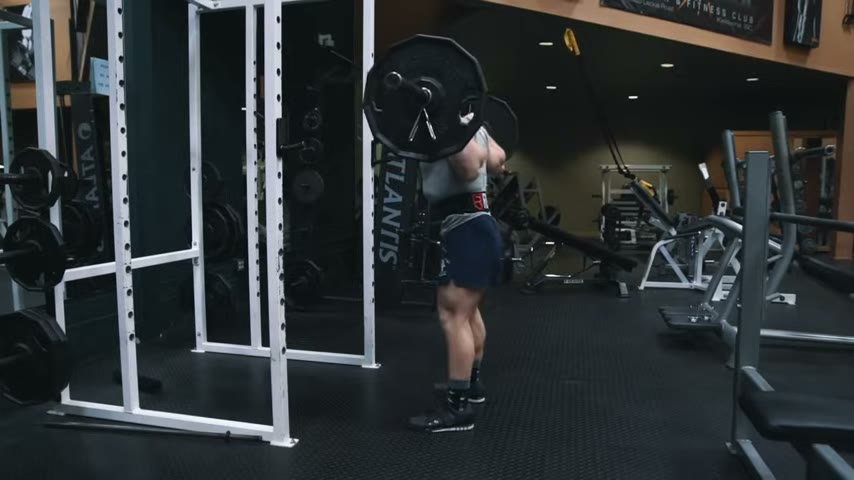barbell_plate_side: (359, 33, 416, 165)
